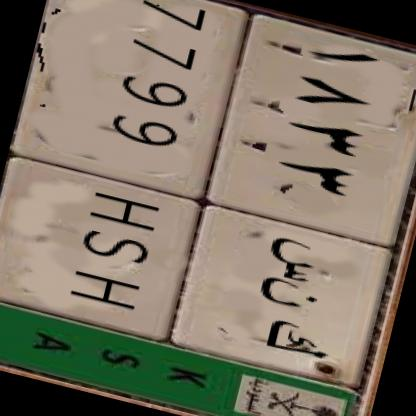english: (0, 0, 246, 339)
